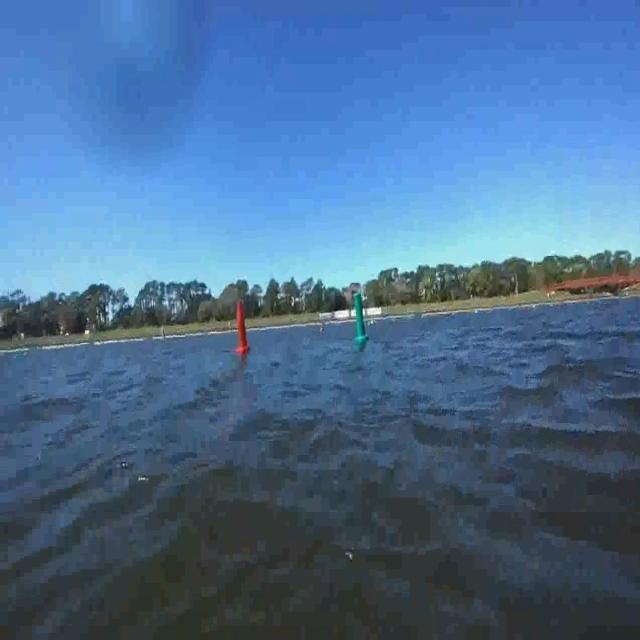green-column-buoy: (353, 292, 369, 344)
red-column-buoy: (236, 299, 252, 354)
